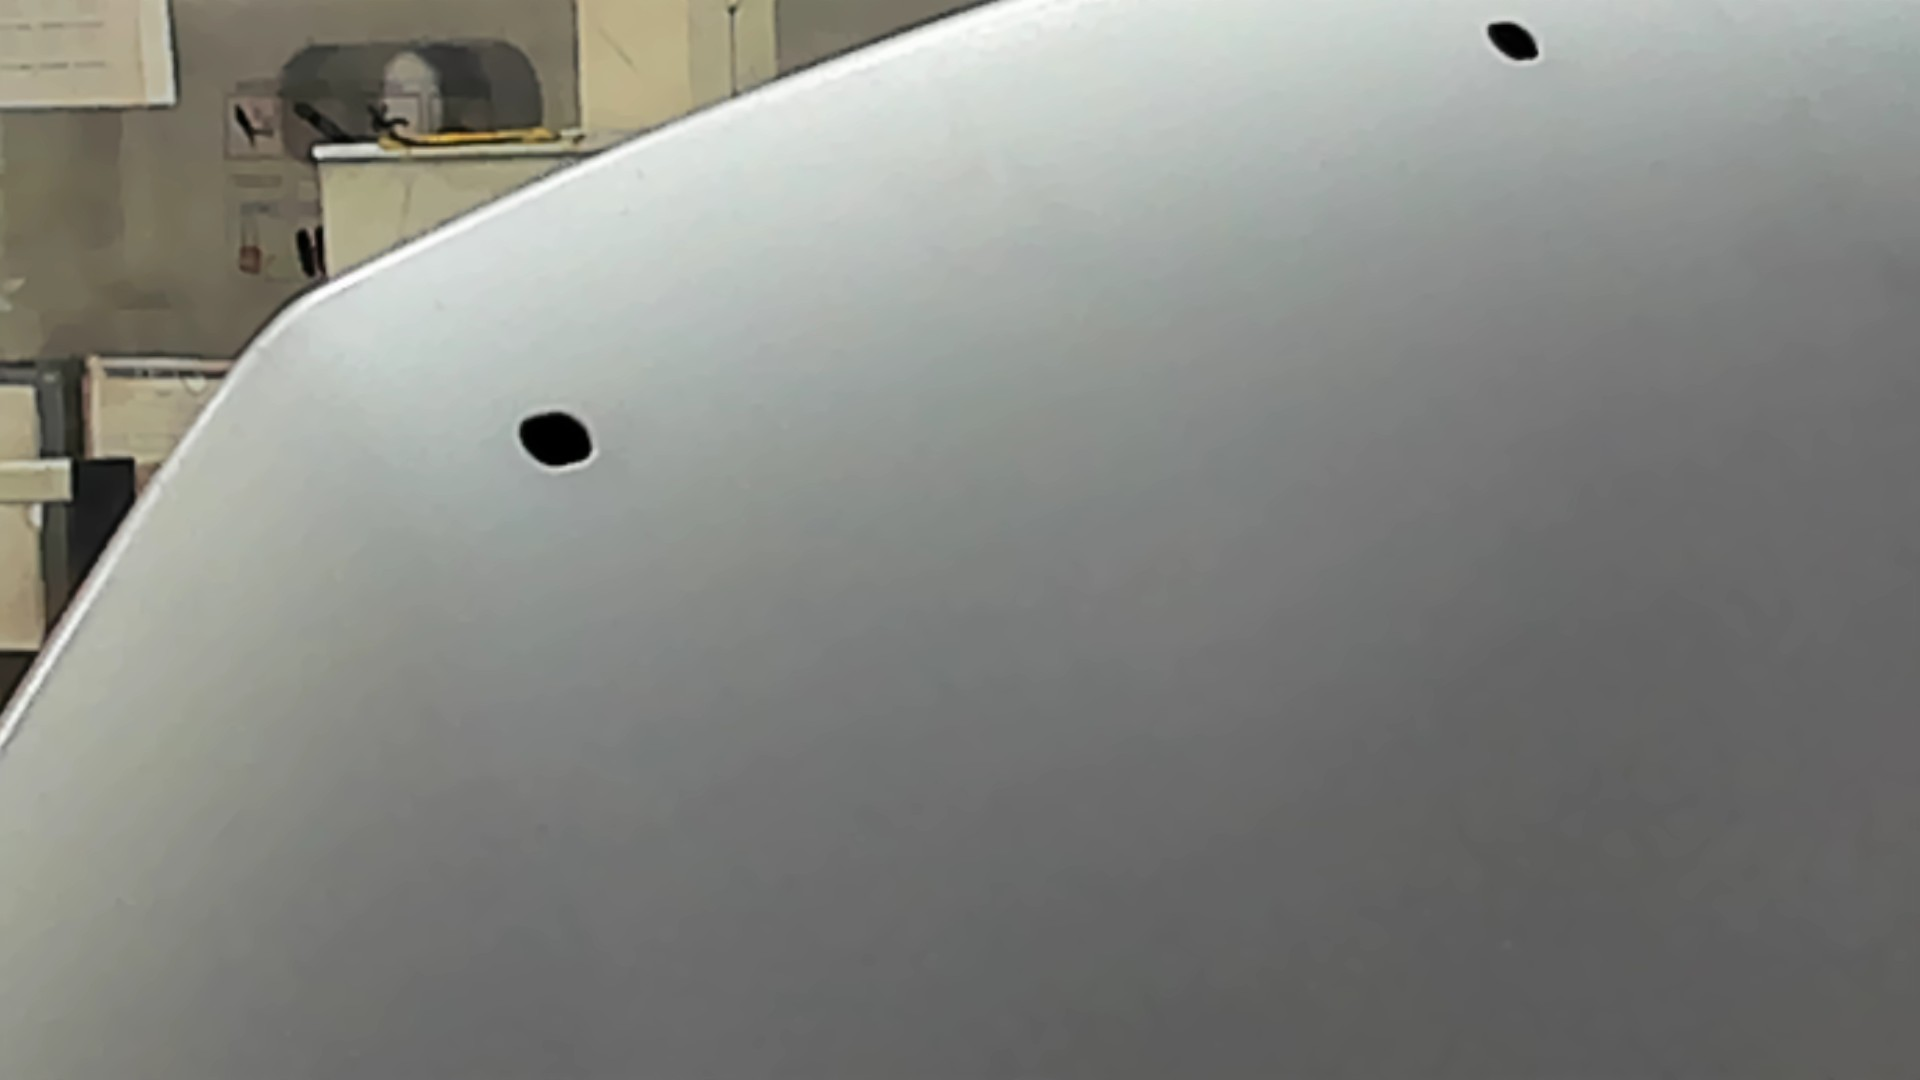Agujero: (513, 406, 597, 472), (1482, 15, 1543, 65)
